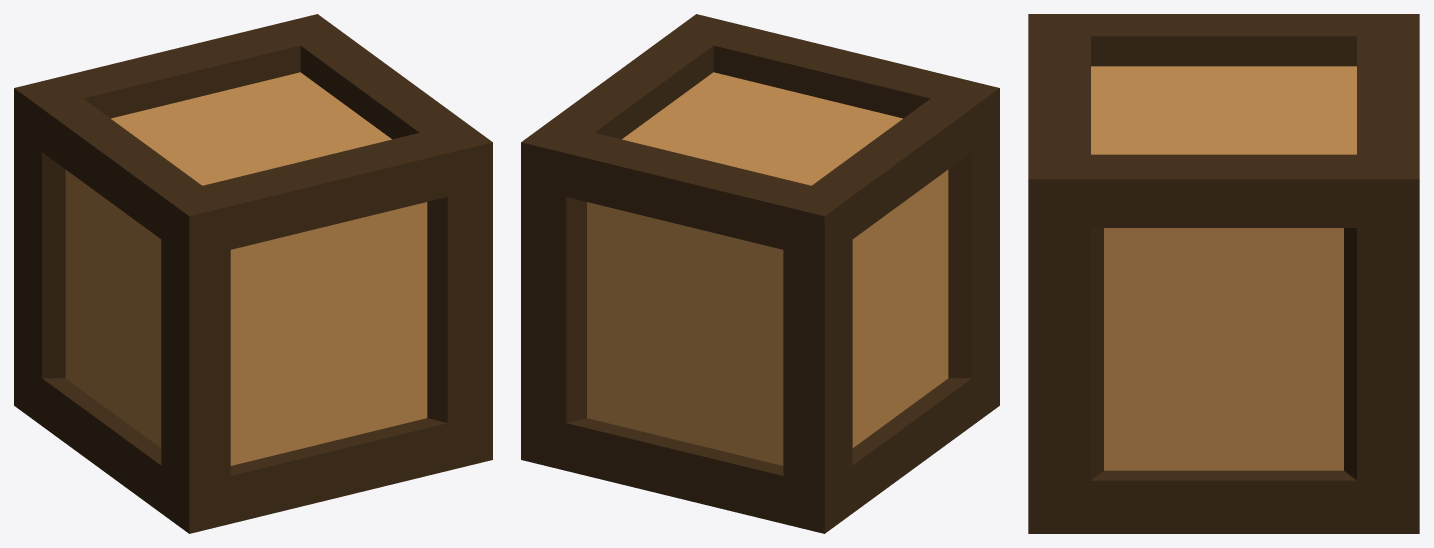
File: chistae.fbx
3 views of the same model, side by side, from view 1: azimuth 30°, elevation 25°; view 2: azimuth 150°, elevation 25°; view 3: azimuth 270°, elevation 25° (orthographic). The views are drawn at different scales.
Visible parts, largest first — view 1: chischtli_1; view 2: chischtli_1; view 3: chischtli_1.
Boxes of the visible parts, x1,y1,x2,y2 form: chischtli_1: (14, 14, 492, 533); chischtli_1: (521, 14, 999, 533); chischtli_1: (1028, 14, 1419, 533).
Size of the model in its own units: 0.2506 by 0.2506 by 0.2506.
